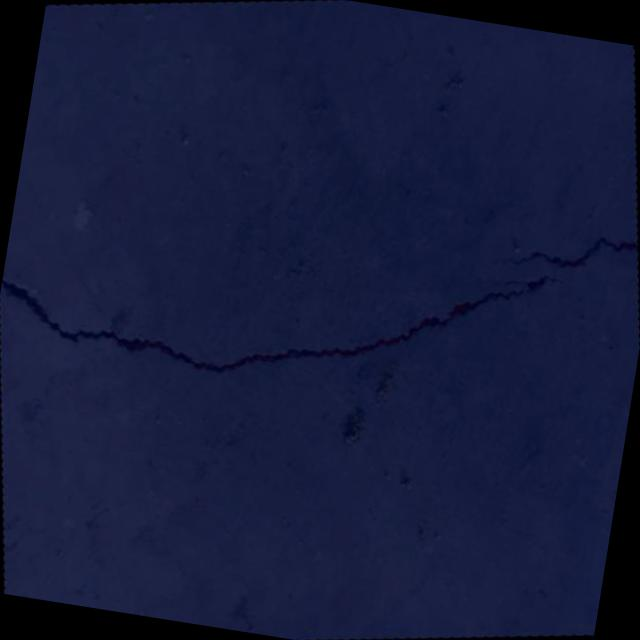crack: (0, 166, 587, 465), (503, 216, 640, 289)
